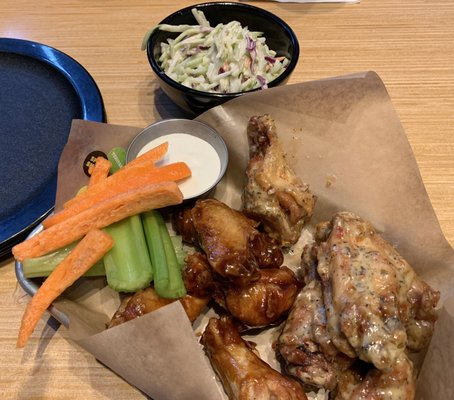sushi: (145, 3, 300, 116), (125, 118, 229, 202)
